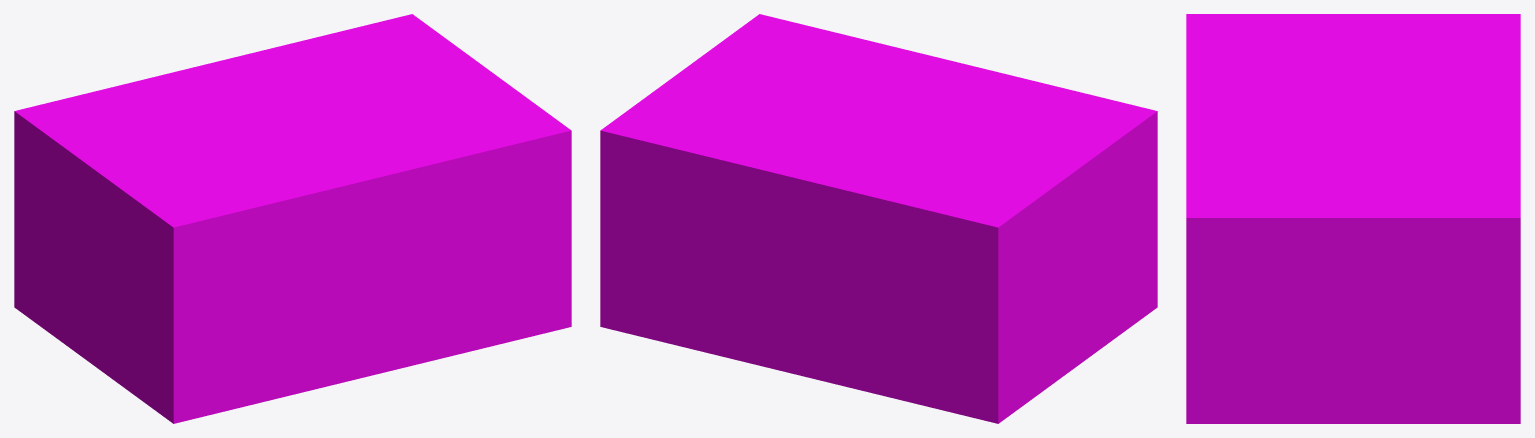
Rendered from layout_test.gltf.
The picture shows the model from 3 angles, left to right: view 1: azimuth 30°, elevation 25°; view 2: azimuth 150°, elevation 25°; view 3: azimuth 270°, elevation 25°; orthographic projection. The views are drawn at different scales.
Parts seen in each view (by area): view 1: pasted__pCube1; view 2: pasted__pCube1; view 3: pasted__pCube1.
Part boxes in pixels (x1=…): pasted__pCube1: x1=14, y1=14, x2=571, y2=423; pasted__pCube1: x1=600, y1=14, x2=1157, y2=423; pasted__pCube1: x1=1186, y1=14, x2=1520, y2=423.
Size of the model in its own units: 23.54 by 11.1 by 16.31.
